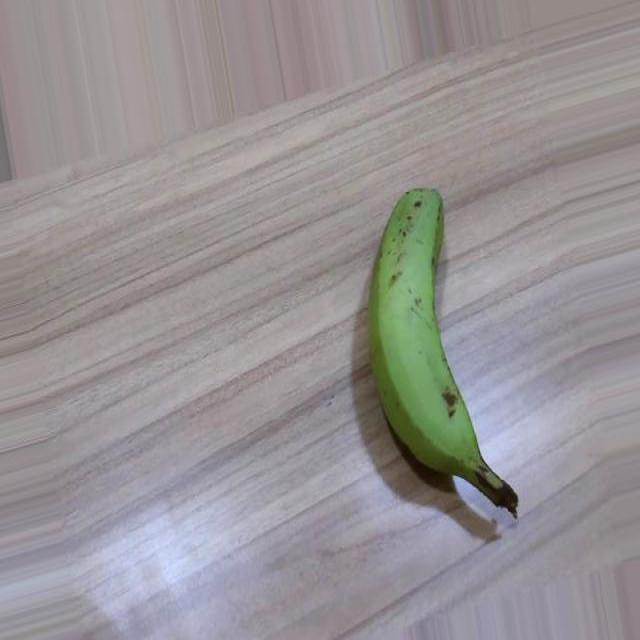Unripe: (367, 186, 520, 516)
